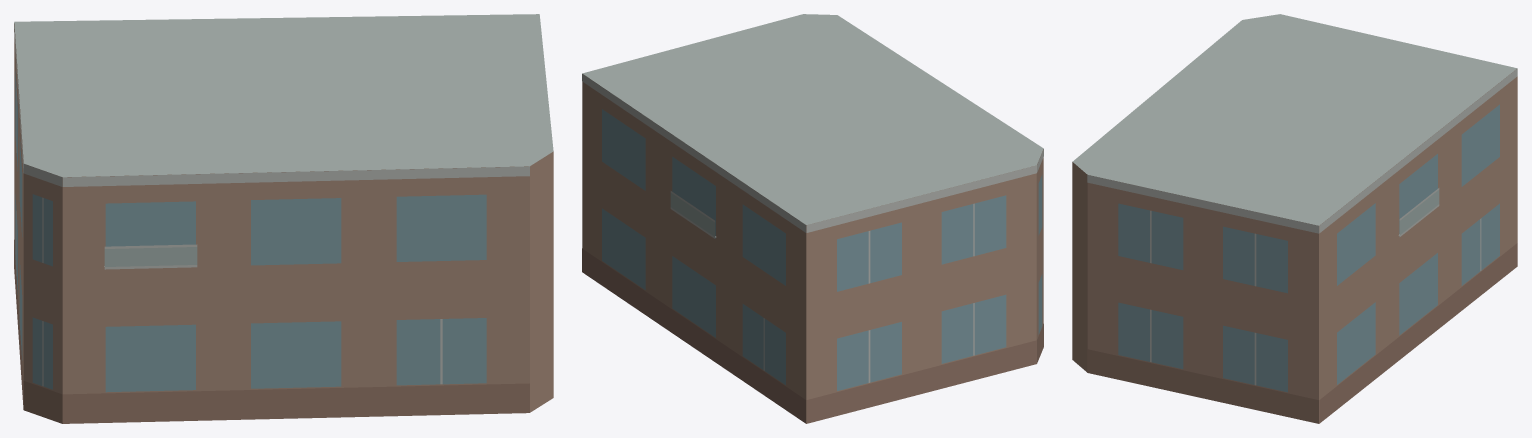
The model's file is survey-upis-32657622.glb.
3 renders of one model, left to right at view 1: azimuth 30°, elevation 25°; view 2: azimuth 150°, elevation 25°; view 3: azimuth 270°, elevation 25°, orthographic. The views are drawn at different scales.
Parts seen in each view (by area): view 1: survey-upis-32657622.tmp; view 2: survey-upis-32657622.tmp; view 3: survey-upis-32657622.tmp.
Part boxes in pixels (x1,y1,x2,y2): survey-upis-32657622.tmp: [14, 14, 553, 423]; survey-upis-32657622.tmp: [582, 14, 1043, 423]; survey-upis-32657622.tmp: [1072, 14, 1517, 423].
Size of the model in its own units: 13.99 by 6.1 by 12.43.
